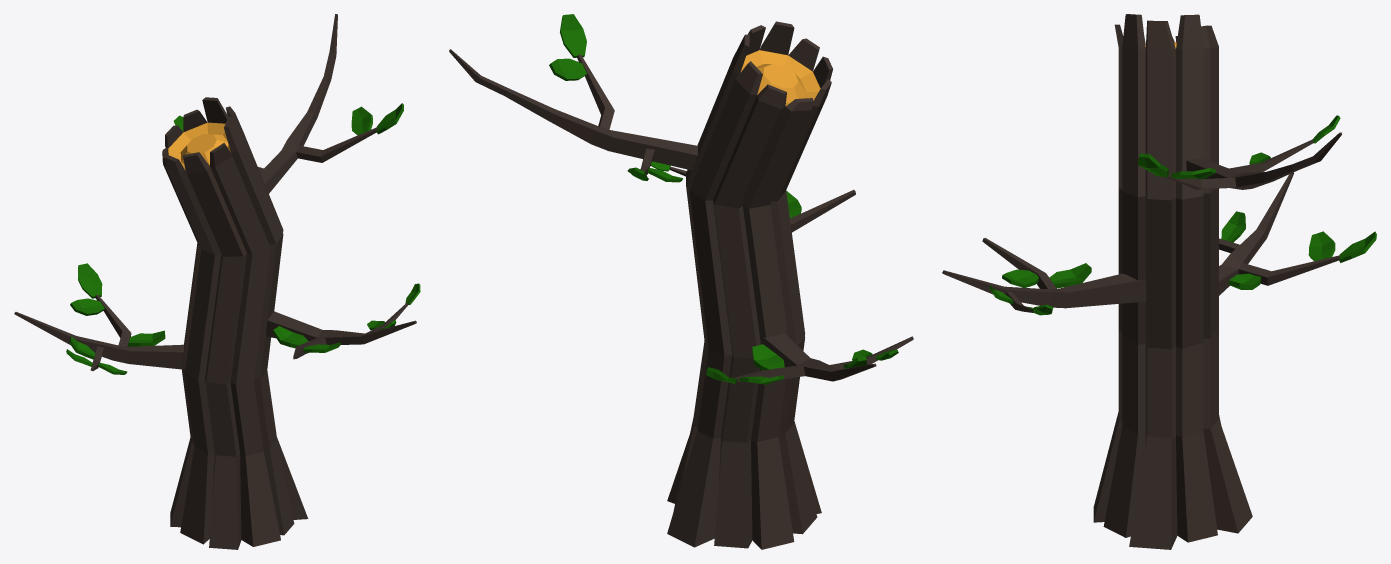
Rendered from Broken_Tree_Spring.fbx.
3 views of the same model, side by side, from view 1: azimuth 30°, elevation 25°; view 2: azimuth 150°, elevation 25°; view 3: azimuth 270°, elevation 25° (orthographic). The views are drawn at different scales.
Visible parts, largest first — view 1: Broken_Tree_Spring; view 2: Broken_Tree_Spring; view 3: Broken_Tree_Spring.
Part boxes in pixels (x1,y1,x2,y2): Broken_Tree_Spring: (14, 14, 420, 549); Broken_Tree_Spring: (449, 14, 913, 549); Broken_Tree_Spring: (942, 14, 1376, 549).
Size of the model in its own units: 292 by 341 by 273.
